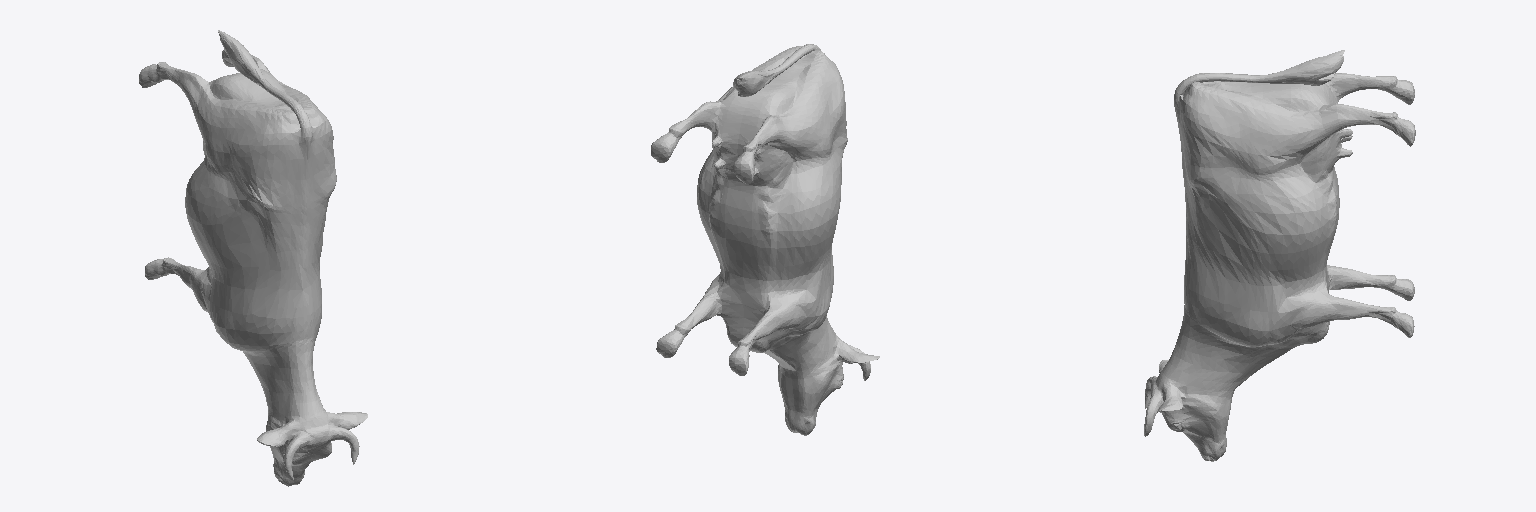
The model's file is cow.obj.
The picture shows the model from 3 angles: view 1: azimuth 30°, elevation 25°; view 2: azimuth 150°, elevation 25°; view 3: azimuth 270°, elevation 25°; orthographic projection.
Visible parts, largest first — view 1: cow; view 2: cow; view 3: cow.
Boxes of the visible parts, x1,y1,x2,y2 form: cow: [139, 30, 367, 486]; cow: [651, 44, 879, 435]; cow: [1144, 50, 1415, 461].
Size of the model in its own units: 2.06 by 6.38 by 3.86.